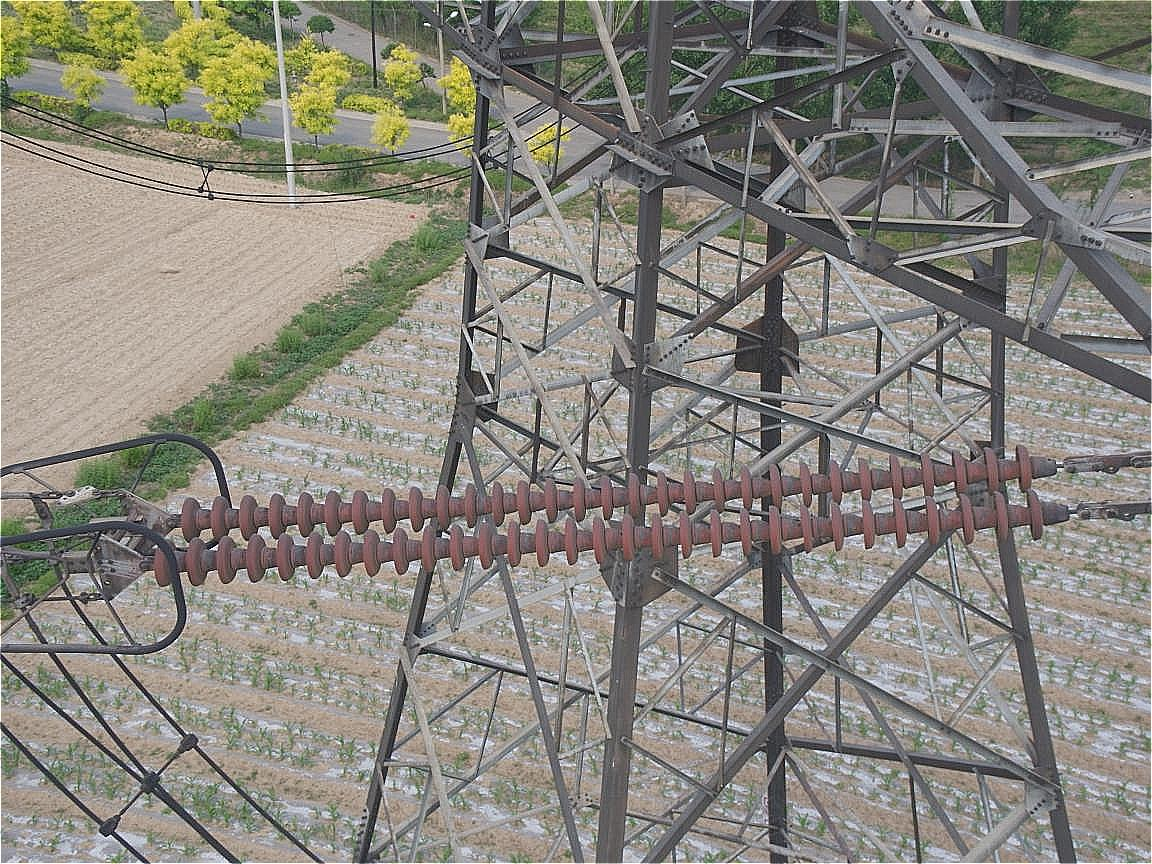insultor1: (139, 432, 1065, 607)
